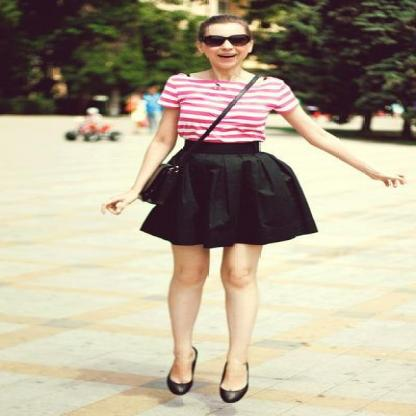bag: (138, 175, 168, 203)
shirt: (161, 75, 305, 141)
shoe: (166, 375, 248, 402)
skirt: (141, 132, 318, 248)
sunglass: (198, 25, 252, 46)
